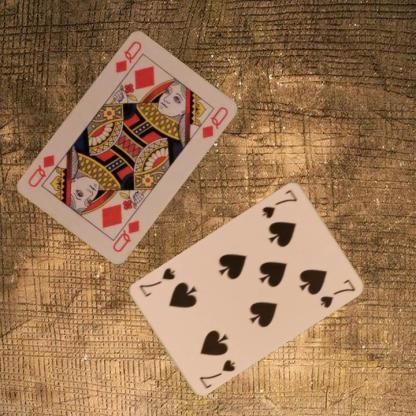7s: (196, 356, 237, 390), (259, 186, 299, 220)
Qd: (109, 209, 141, 254), (113, 38, 144, 76)
